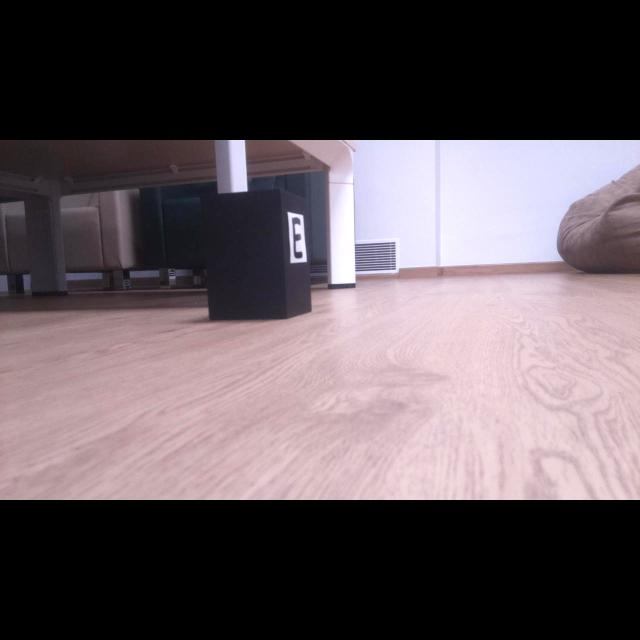E: (292, 217, 303, 259)
